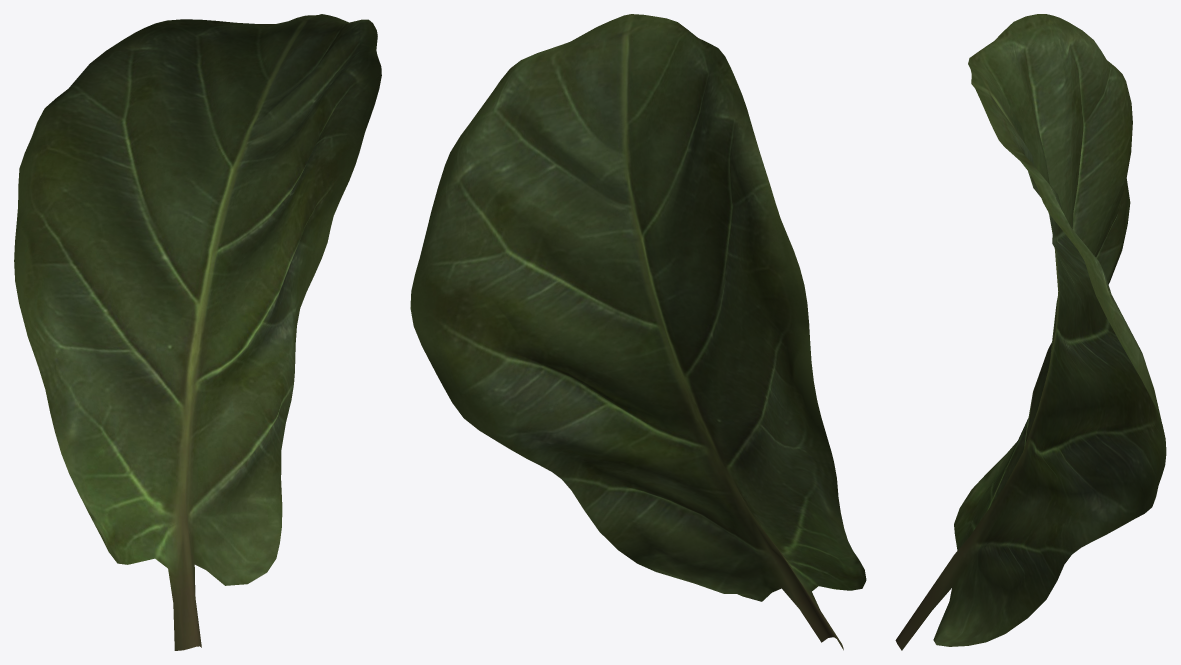
3 views of the same model, side by side, from view 1: azimuth 30°, elevation 25°; view 2: azimuth 150°, elevation 25°; view 3: azimuth 270°, elevation 25° (orthographic). The views are drawn at different scales.
Visible parts, largest first — view 1: G-Plane209 68% 68% 68% 68%.020; view 2: G-Plane209 68% 68% 68% 68%.020; view 3: G-Plane209 68% 68% 68% 68%.020.
Part boxes in pixels (x1,y1,x2,y2): G-Plane209 68% 68% 68% 68%.020: (14,14,381,650); G-Plane209 68% 68% 68% 68%.020: (410,14,866,650); G-Plane209 68% 68% 68% 68%.020: (895,14,1166,650).
Bounding box in the file's own units: 0.7795 × 1.2 × 0.4483.
Materials: 1 (1 with a texture image).
